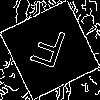F: (25, 25, 69, 78)
